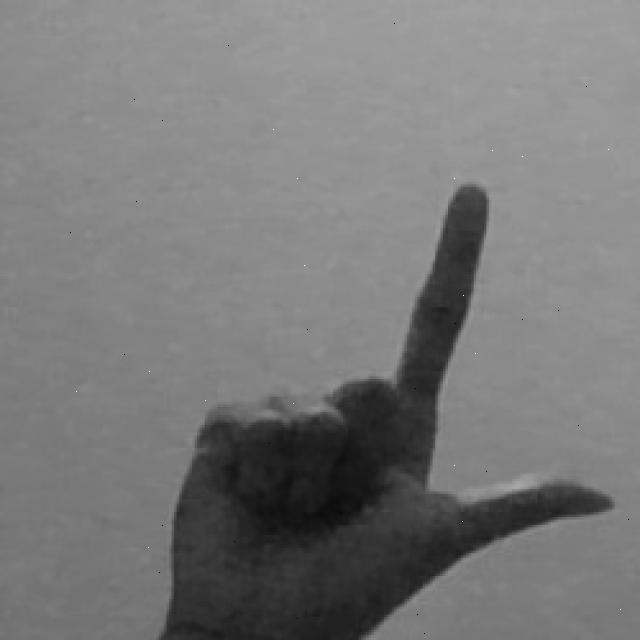L: (153, 182, 621, 640)
